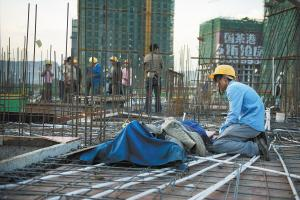helmet: (213, 66, 237, 80), (125, 59, 133, 68), (73, 59, 81, 66), (46, 61, 52, 66), (113, 58, 118, 63), (95, 59, 99, 64)
